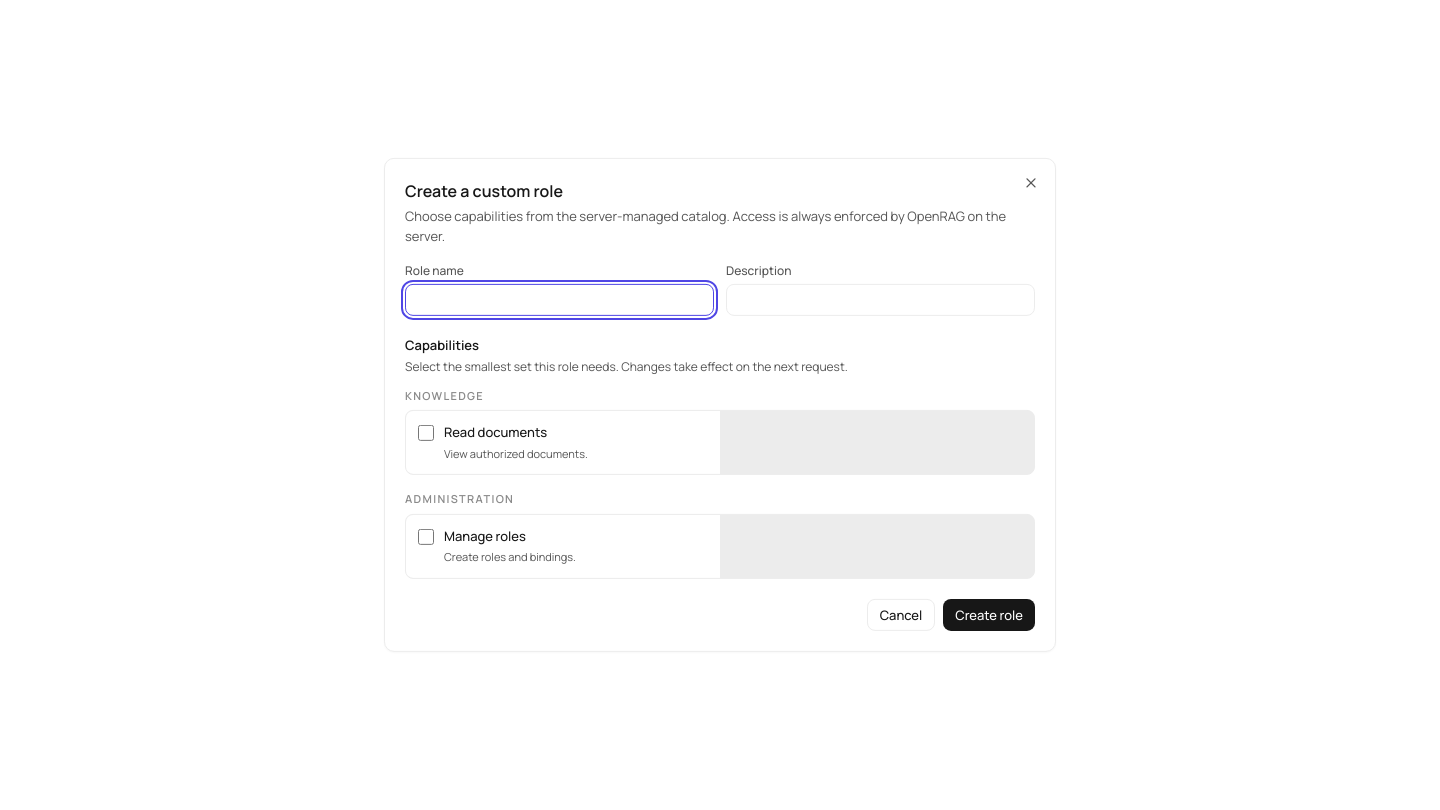
Test: keeps the form state and reports a server authorization error
Expected: the checkbox labelled "Read documents View authorized documents." is shown, [418,425,434,441]
In the field labelled "Role name": (560, 300) [405,284,714,316], type "Temporary reviewer"
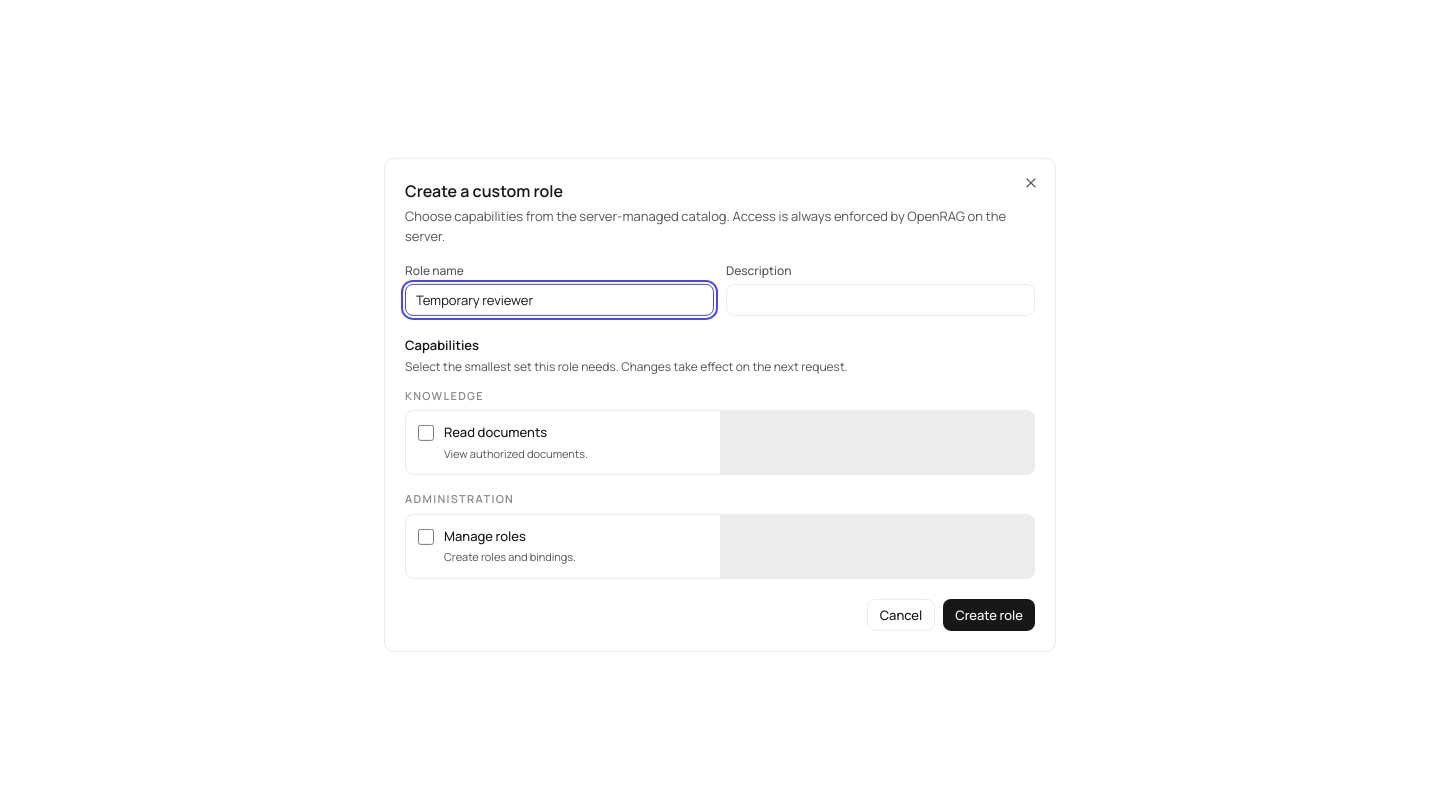
Click the button "Create role": (989, 615) [943,599,1035,631]
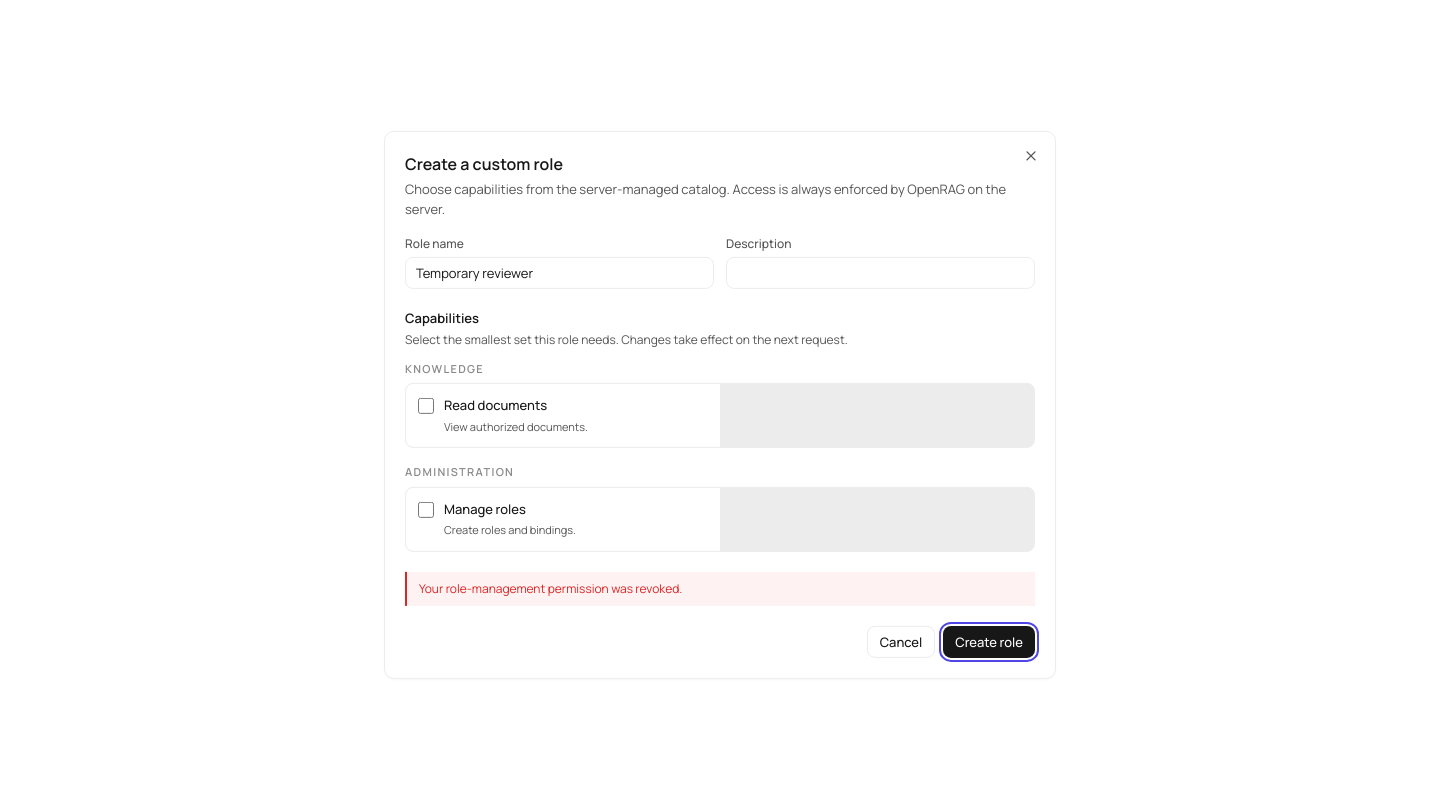
Expected: the message reads "Your role-management permission was revoked.", [419,580,682,597]
